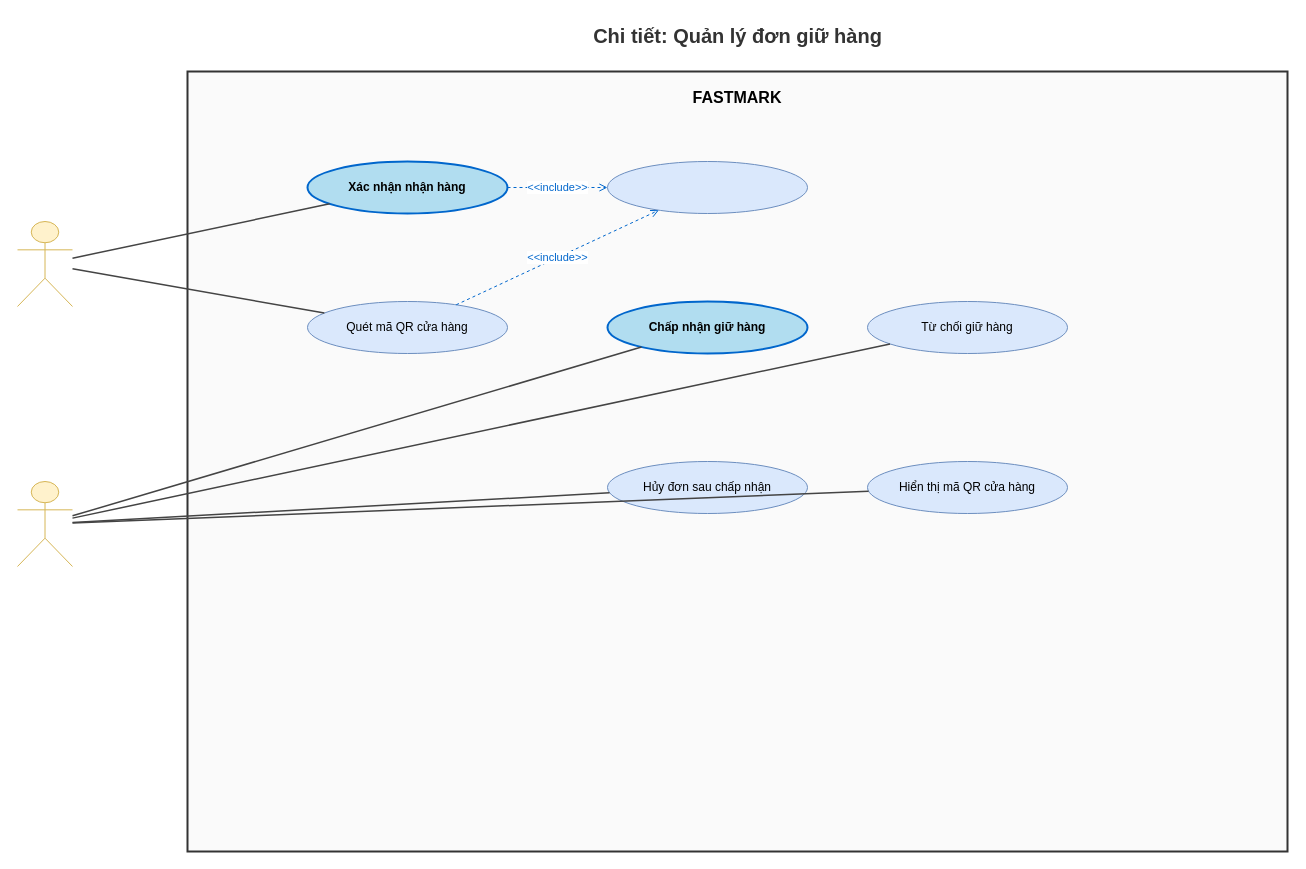
Image size: 1306x869. Some labels were removed from this diagram. Each missing label, with the centre of its shape:
"Kiểm tra mã nhận hàng" belongs at pixel 707 187.
"Seller" belongs at pixel 44 523.
"User" belongs at pixel 44 263.
